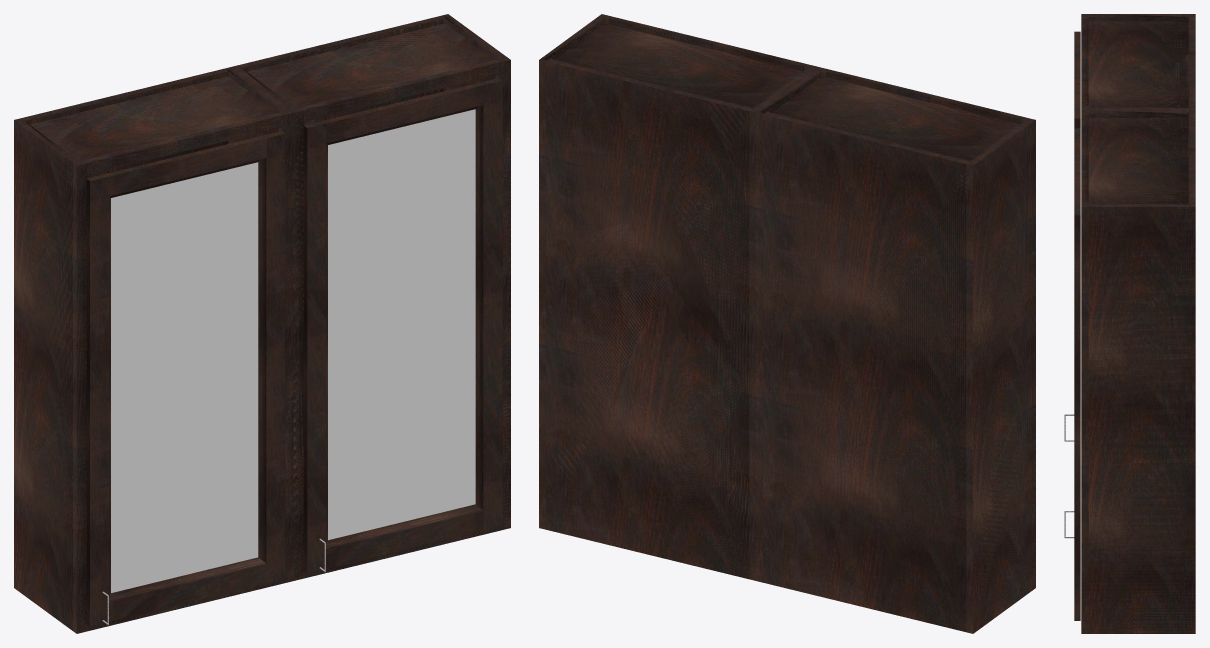
Rendered from haengeschrank.fbx.
3 renders of one model, left to right at view 1: azimuth 30°, elevation 25°; view 2: azimuth 150°, elevation 25°; view 3: azimuth 270°, elevation 25°, orthographic. The views are drawn at different scales.
Visible parts, largest first — view 1: Framed (GL, Wall cabin; view 2: Wall cabin; view 3: Wall cabin, Framed (GL.
Boxes of the visible parts, x1,y1,x2,y2 form: Framed (GL: [86, 78, 502, 626]; Wall cabin: [14, 14, 510, 633]; Wall cabin: [539, 14, 1035, 633]; Wall cabin: [1064, 14, 1195, 633]; Framed (GL: [1074, 31, 1080, 620].
Size of the model in its own units: 3.05 by 3.14 by 0.8759.
